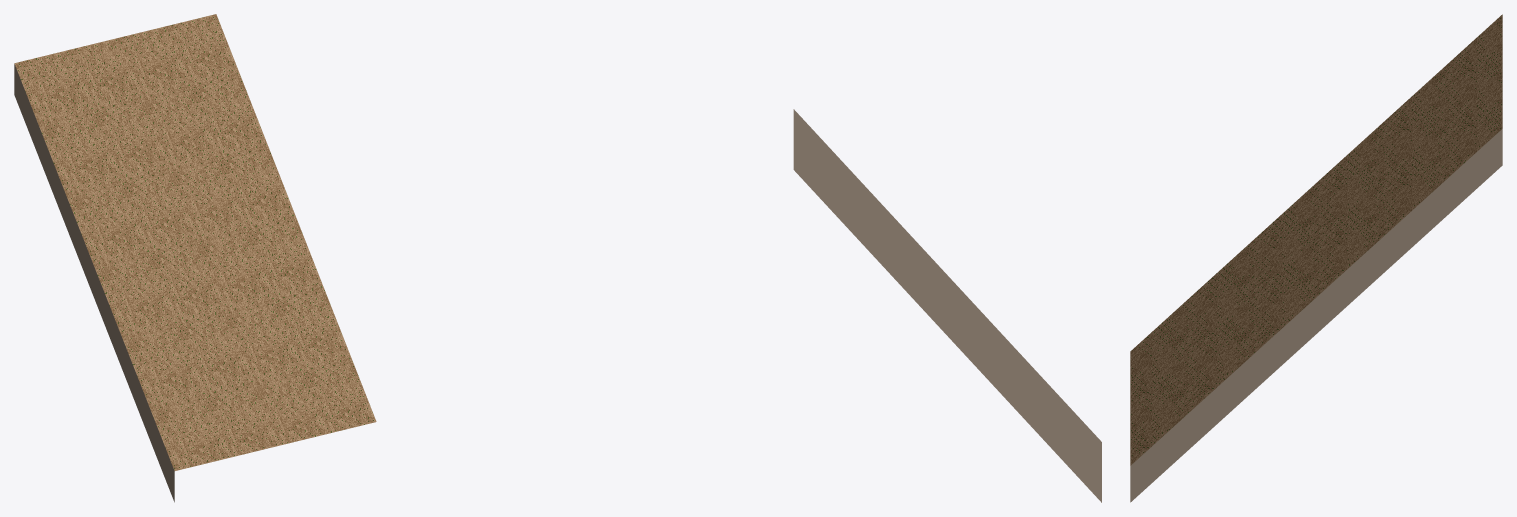
Rendered from ground.glb.
3 renders of one model, left to right at view 1: azimuth 30°, elevation 25°; view 2: azimuth 150°, elevation 25°; view 3: azimuth 270°, elevation 25°, orthographic. The views are drawn at different scales.
Parts seen in each view (by area): view 1: ground; view 2: ground; view 3: ground.
Boxes of the visible parts, x1,y1,x2,y2 form: ground: (14,14,376,502); ground: (793,109,1101,502); ground: (1130,14,1502,502).
Size of the model in its own units: 400 by 610 by 550.
2 materials, 1 textured.
